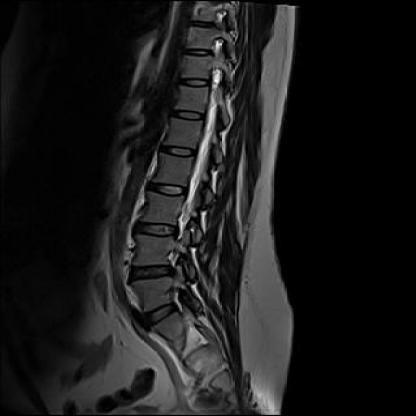Disc Bulgerotation: (130, 262, 177, 283), (131, 220, 180, 239), (143, 301, 183, 323)
